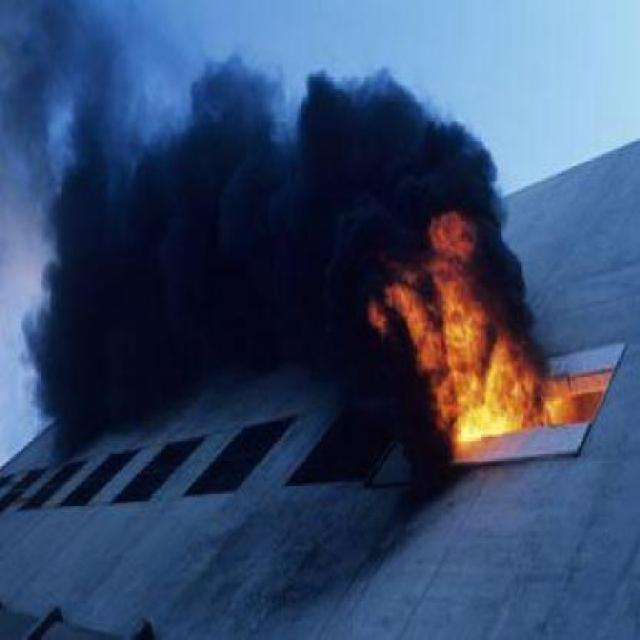Fire: (324, 220, 608, 518)
Smoke: (7, 92, 290, 408)
